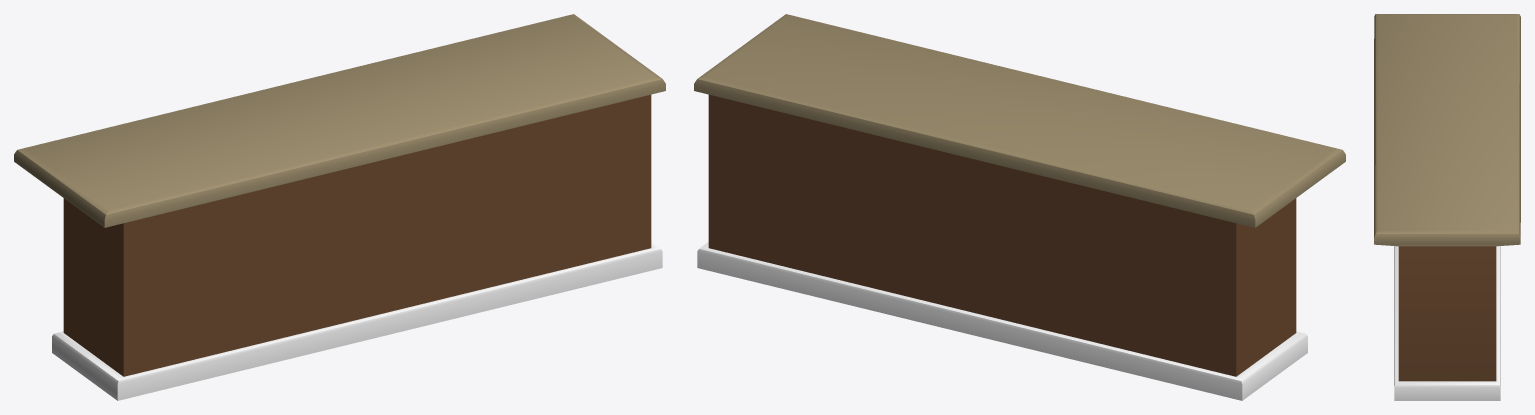
Rendered from Counter 1.fbx.
3 renders of one model, left to right at view 1: azimuth 30°, elevation 25°; view 2: azimuth 150°, elevation 25°; view 3: azimuth 270°, elevation 25°, orthographic. The views are drawn at different scales.
Visible parts, largest first — view 1: Comptoir.001; view 2: Comptoir.001; view 3: Comptoir.001.
Boxes of the visible parts, box(x1,y1,x2,y2) form: Comptoir.001: box(14, 14, 665, 400); Comptoir.001: box(694, 14, 1345, 400); Comptoir.001: box(1374, 14, 1520, 400).
Size of the model in its own units: 429 by 145 by 118.
